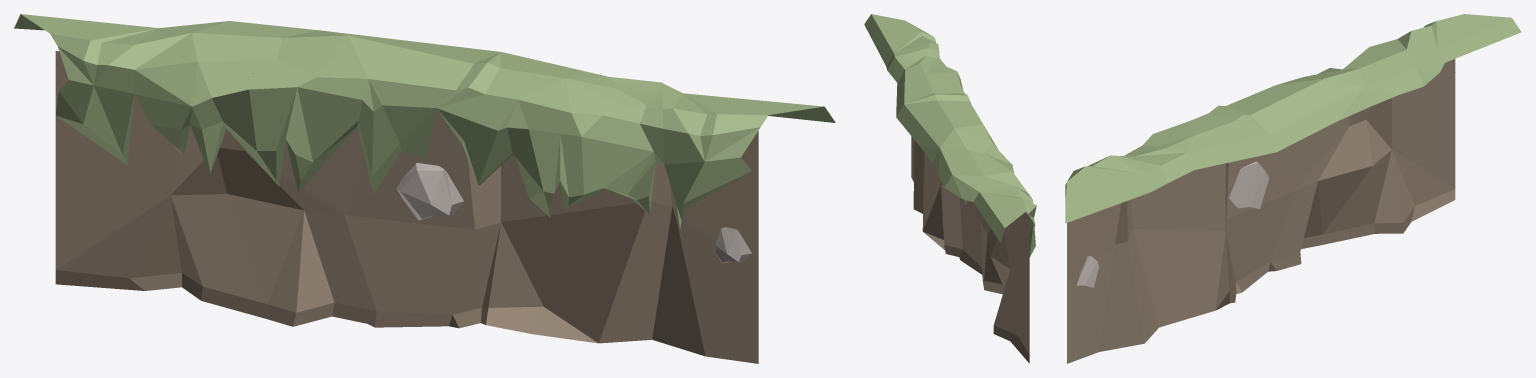
Rendered from ER_Terrain_1x1_GrassDiagonal_Halfsize_001_A1.fbx.
3 renders of one model, left to right at view 1: azimuth 30°, elevation 25°; view 2: azimuth 150°, elevation 25°; view 3: azimuth 270°, elevation 25°, orthographic. The views are drawn at different scales.
Parts seen in each view (by area): view 1: ER_Terrain_1x1_GrassDiagonal_Halfsize_001_A1; view 2: ER_Terrain_1x1_GrassDiagonal_Halfsize_001_A1; view 3: ER_Terrain_1x1_GrassDiagonal_Halfsize_001_A1.
Part boxes in pixels (x1=…): ER_Terrain_1x1_GrassDiagonal_Halfsize_001_A1: x1=14, y1=14, x2=835, y2=363; ER_Terrain_1x1_GrassDiagonal_Halfsize_001_A1: x1=864, y1=14, x2=1036, y2=363; ER_Terrain_1x1_GrassDiagonal_Halfsize_001_A1: x1=1065, y1=14, x2=1521, y2=363.
Bounding box in the file's own units: 1.17 × 0.5611 × 1.18.
